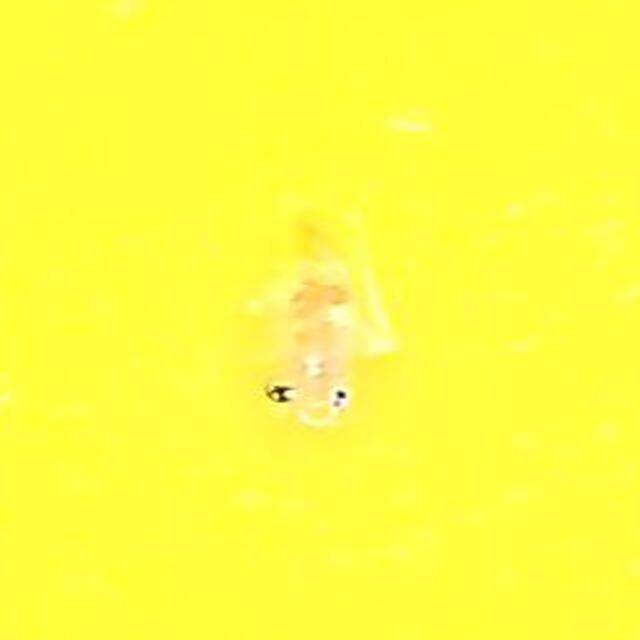Hemiptera: (249, 206, 391, 434)
